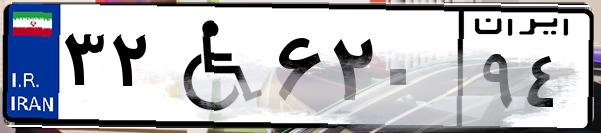0: (385, 28, 445, 110)
2: (330, 28, 385, 110), (110, 28, 158, 98)
3: (57, 26, 110, 100)
4: (525, 38, 570, 115)
6: (270, 28, 330, 110)
9: (475, 38, 525, 113)
ژ (معلولین و جانبازان): (158, 12, 270, 120)
